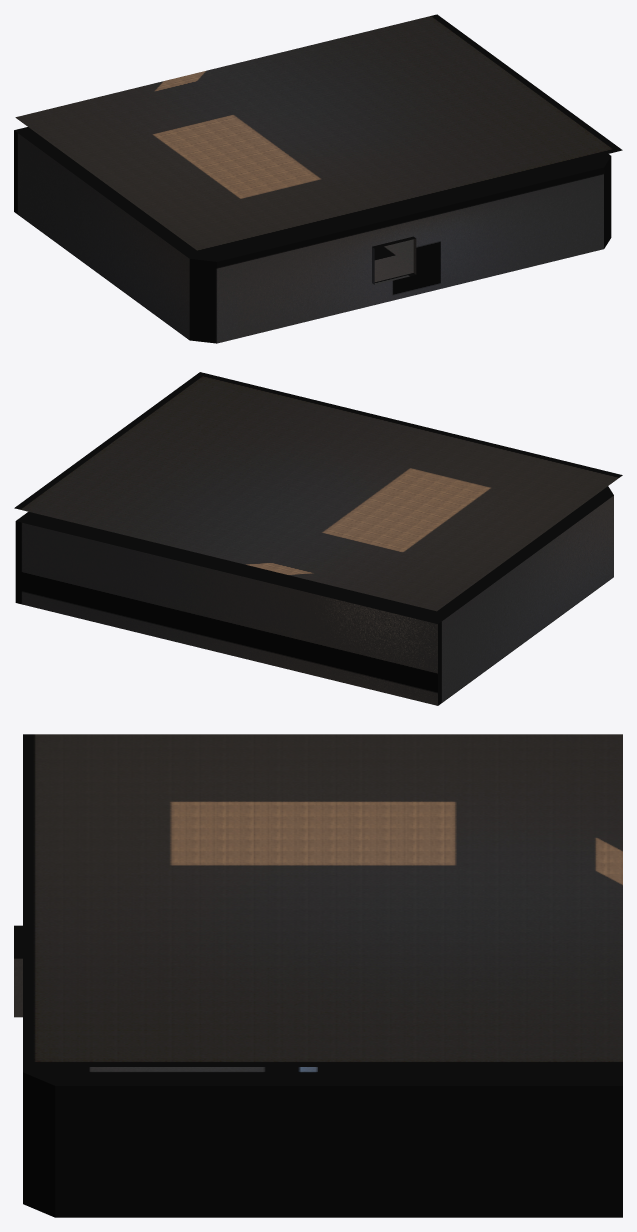
The model's file is museum07.obj.
The picture shows the model from 3 angles, top to bottom: view 1: azimuth 30°, elevation 25°; view 2: azimuth 150°, elevation 25°; view 3: azimuth 270°, elevation 25°; orthographic projection. The views are drawn at different scales.
Parts seen in each view (by area): view 1: museum001export; view 2: museum001export; view 3: museum001export.
Part boxes in pixels (x1,y1,x2,y2): museum001export: (14, 14, 622, 343); museum001export: (14, 372, 622, 705); museum001export: (14, 734, 622, 1217).
Bounding box in the file's own units: 1970 × 419 × 1520.
